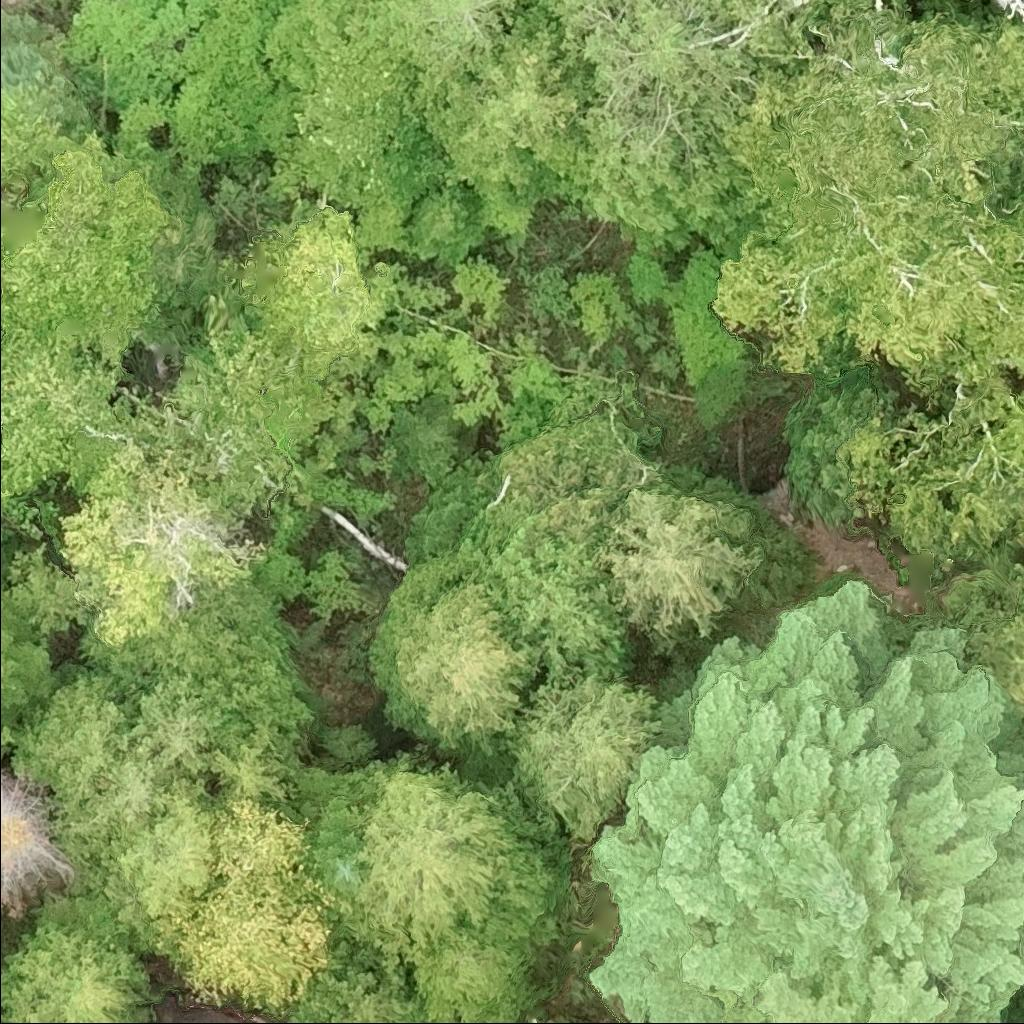crown: (584, 580, 1023, 1023), (143, 800, 345, 1020), (364, 549, 543, 774), (355, 758, 520, 957), (500, 674, 661, 846), (68, 778, 222, 943), (0, 894, 156, 1023), (273, 769, 377, 953), (53, 734, 190, 873), (9, 673, 129, 827), (756, 957, 986, 1023), (284, 926, 430, 1023), (487, 783, 573, 944), (405, 927, 548, 1023), (124, 674, 238, 779), (940, 560, 1023, 704), (0, 762, 74, 910), (203, 724, 304, 813), (0, 720, 18, 764)
